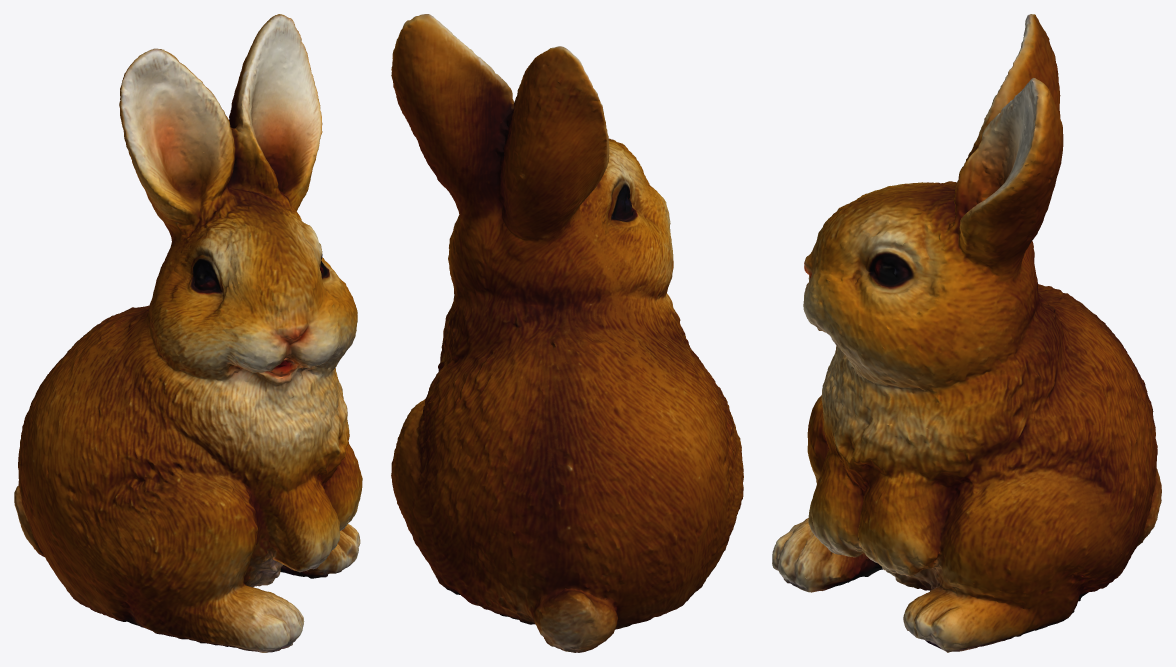
File: rabbit.glb
3 views of the same model, side by side, from view 1: azimuth 30°, elevation 25°; view 2: azimuth 150°, elevation 25°; view 3: azimuth 270°, elevation 25° (orthographic). The views are drawn at different scales.
Visible parts, largest first — view 1: Object_2, Object_3; view 2: Object_2, Object_3; view 3: Object_2, Object_3.
Boxes of the visible parts, x1=… form: Object_2: x1=14, y1=14, x2=362, y2=652; Object_3: x1=14, y1=14, x2=362, y2=647; Object_2: x1=391, y1=14, x2=743, y2=652; Object_3: x1=391, y1=14, x2=743, y2=652; Object_2: x1=772, y1=18, x2=1161, y2=652; Object_3: x1=781, y1=14, x2=1161, y2=652.
Size of the model in its own units: 0.0504 by 0.0859 by 0.0544.
1 material, 1 textured.
